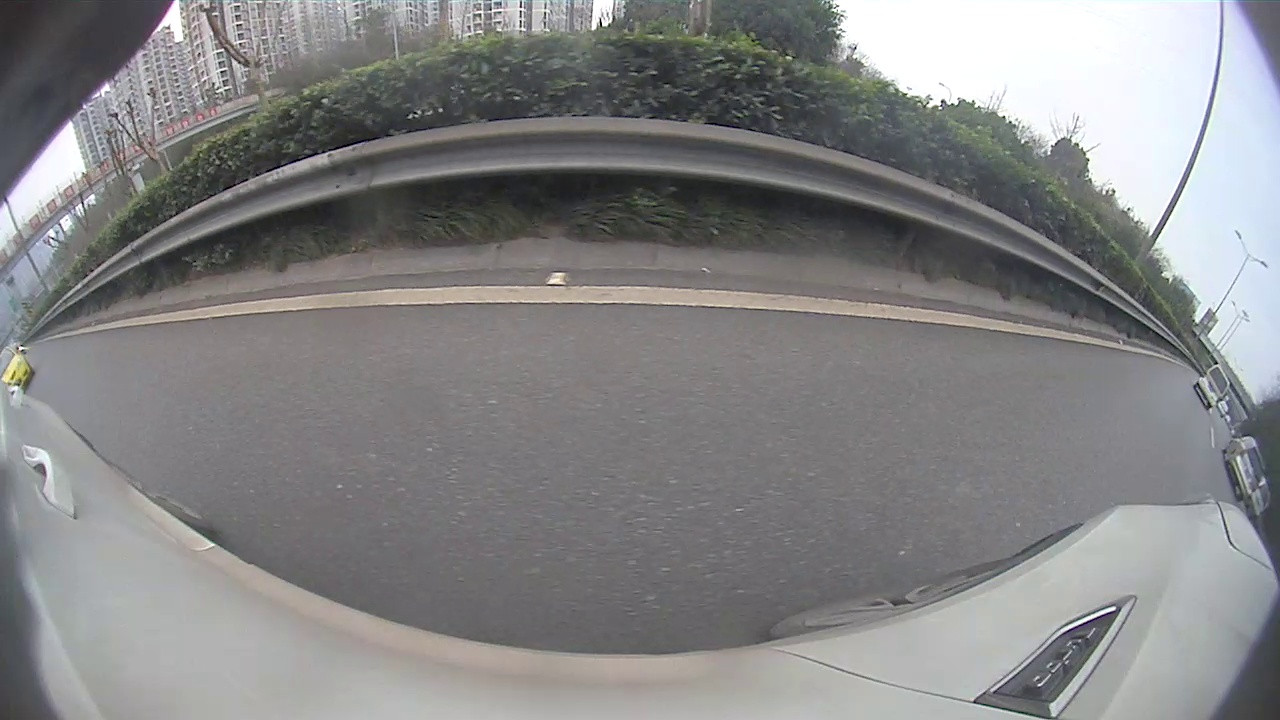car: (1227, 435, 1265, 502), (1194, 362, 1232, 411), (1, 346, 35, 389)
